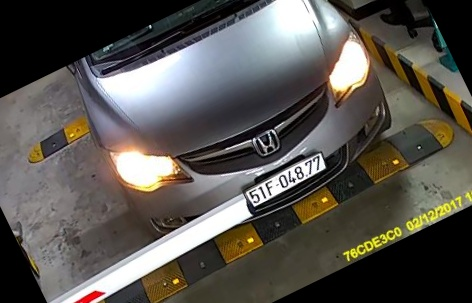plate: (236, 138, 335, 211)
